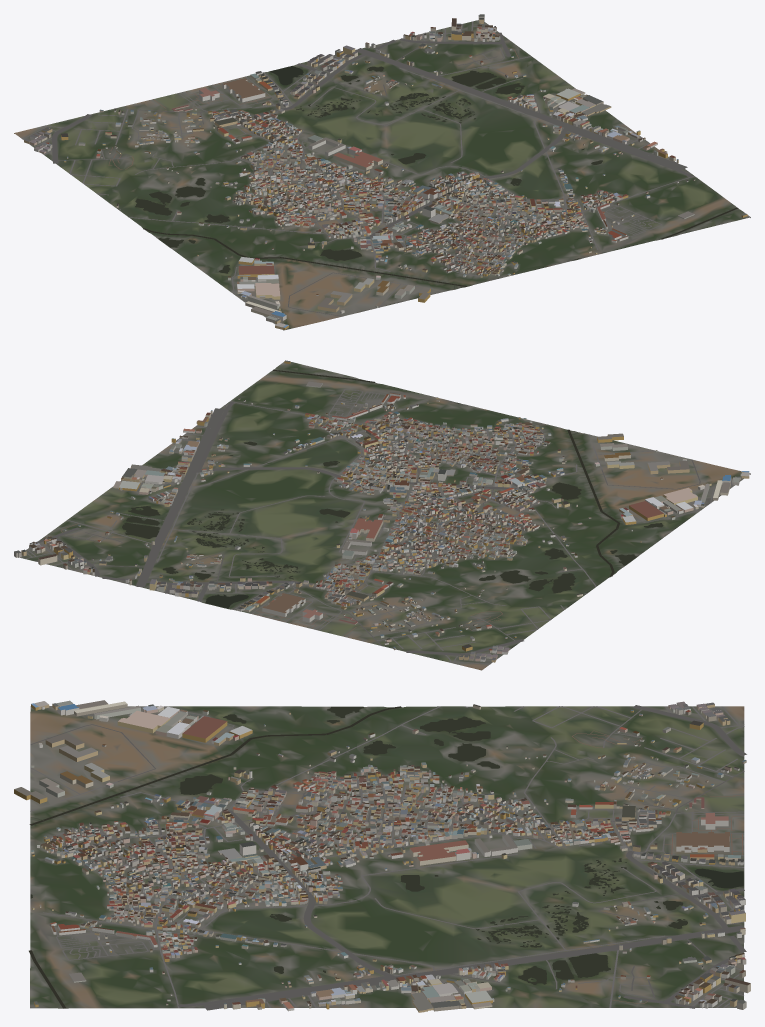
3 renders of one model, top to bottom at view 1: azimuth 30°, elevation 25°; view 2: azimuth 150°, elevation 25°; view 3: azimuth 270°, elevation 25°, orthographic. The views are drawn at different scales.
Parts seen in each view (by area): view 1: ground, buildings, roads, water; view 2: ground, buildings, roads, water; view 3: ground, buildings, roads, water.
Part boxes in pixels (box(x1,y1,x2,y2)): ground: box(14, 20, 750, 330); buildings: box(24, 14, 747, 329); roads: box(22, 21, 694, 317); water: box(135, 66, 738, 289); ground: box(20, 362, 750, 670); buildings: box(14, 360, 749, 662); roads: box(25, 389, 733, 664); water: box(122, 369, 663, 608); ground: box(30, 706, 744, 1008); buildings: box(14, 700, 750, 1012); roads: box(30, 705, 746, 1010); water: box(29, 706, 743, 1008).
Size of the model in its own units: 1437 by 24.1 by 1447.
